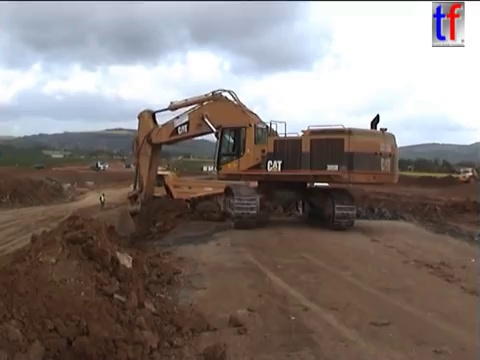excavator: (106, 86, 402, 240)
truck: (127, 164, 264, 224), (456, 165, 480, 186), (90, 159, 110, 173)
worker: (97, 190, 108, 212)
